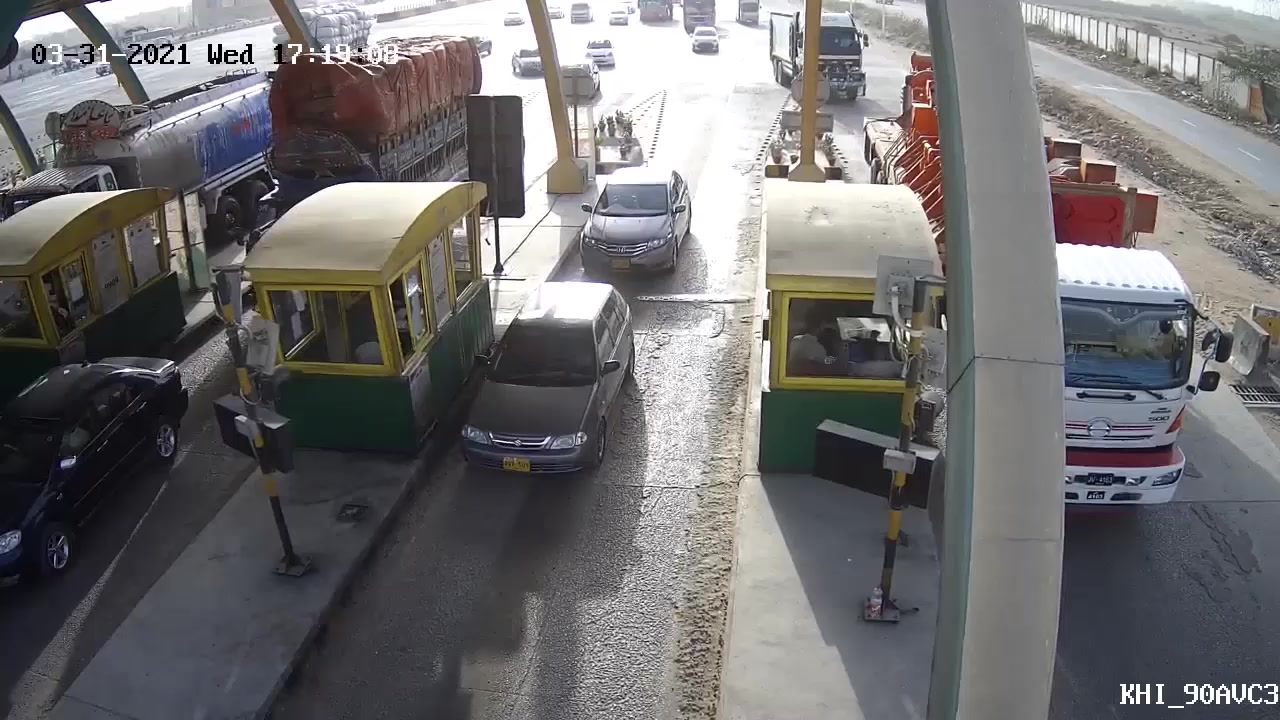F1: (456, 281, 631, 481), (577, 159, 695, 272)
